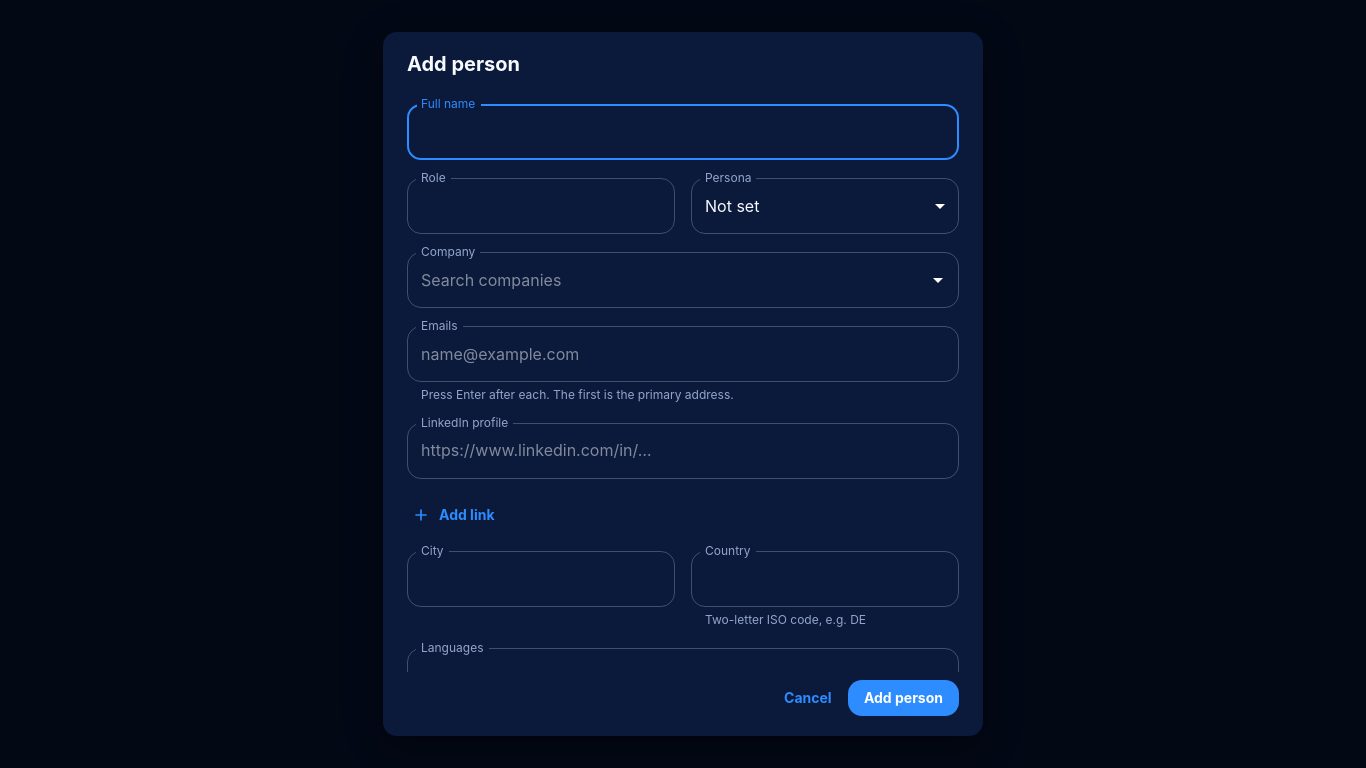
Test case: PersonFormDialog (adding) › never shows raw text for a lost connection
The width and height of the screenshot is (1366, 768).
Type "Marta Chen" into the field labelled "Full name" at (683, 132), box left=407, top=104, right=959, bottom=160
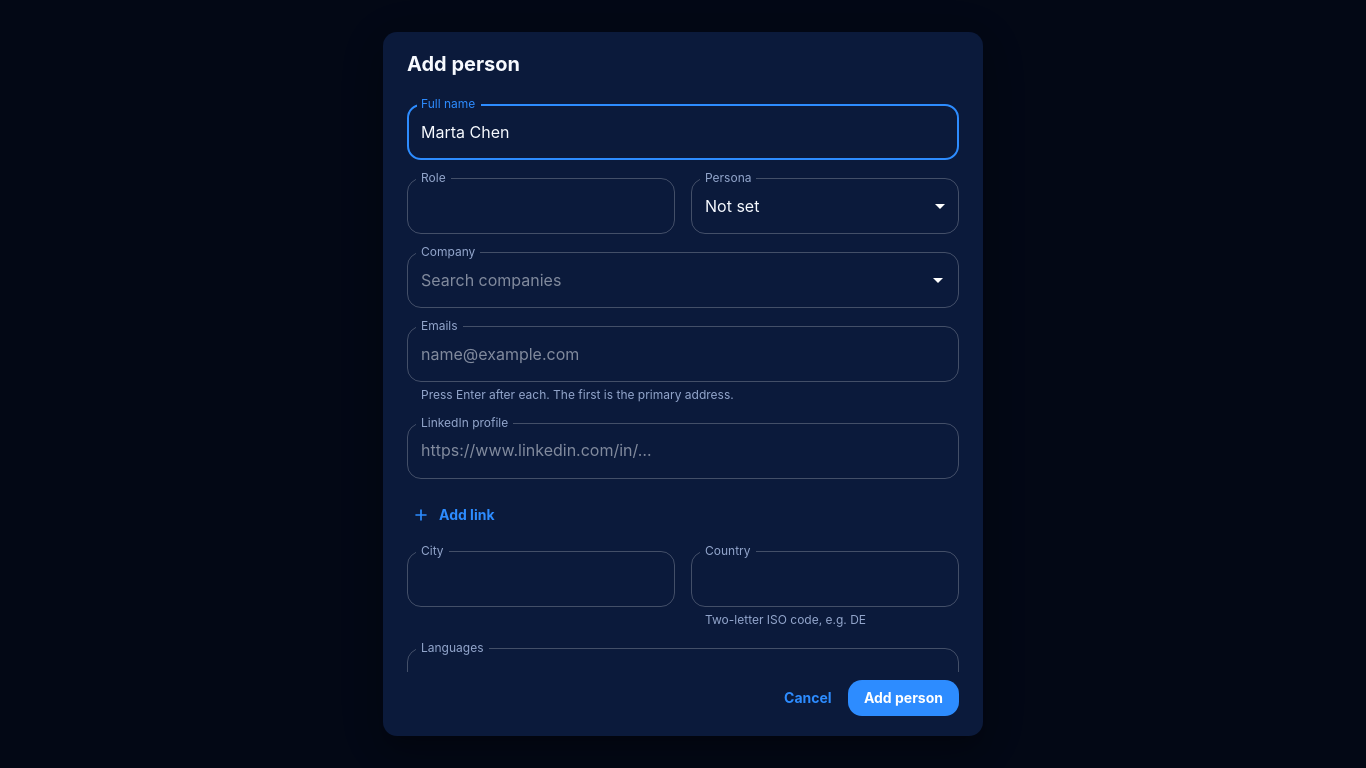
Type "marta@bluewave.io" into the dropdown labelled "Emails" at (683, 354), box left=416, top=335, right=950, bottom=373
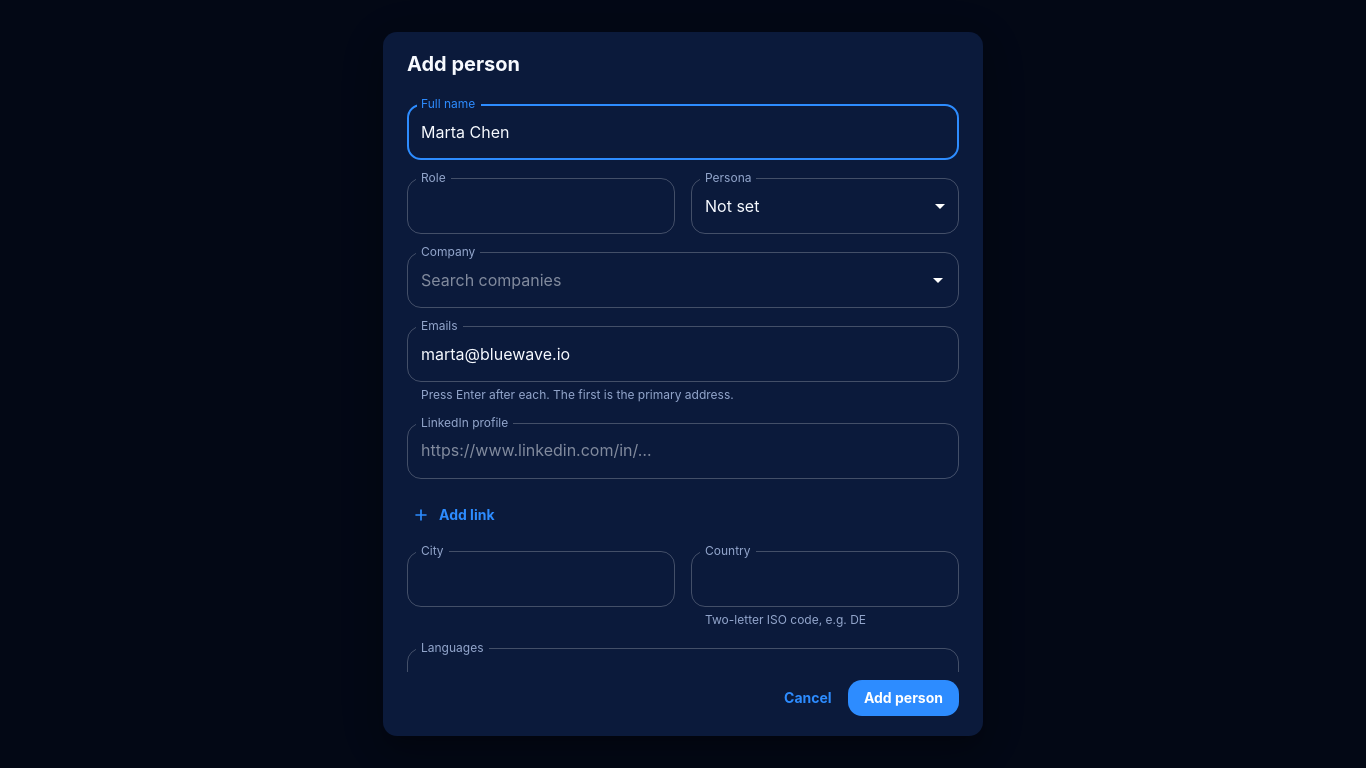
Press Enter in the dropdown labelled "Emails", box left=416, top=335, right=920, bottom=373
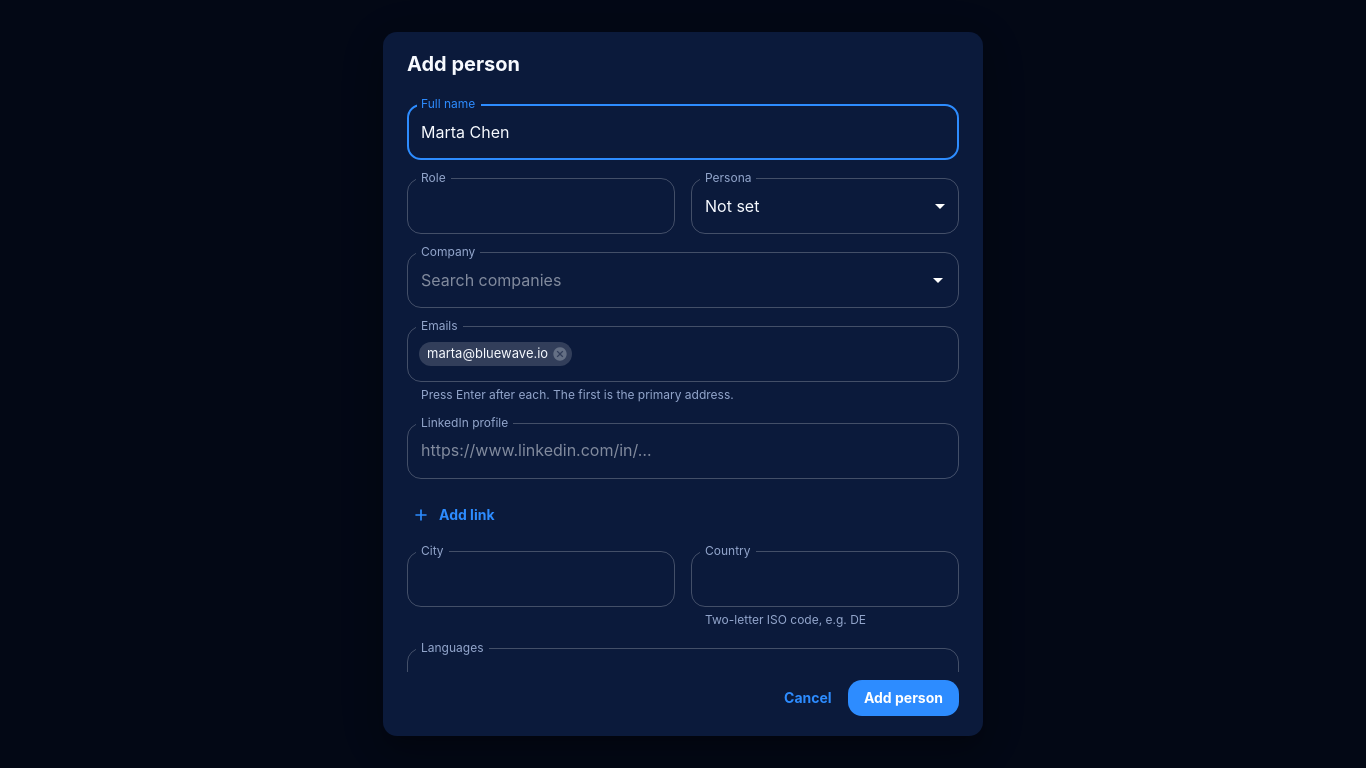
Click the button "Add person" at (903, 698), box left=848, top=680, right=959, bottom=716
(page scrolled)
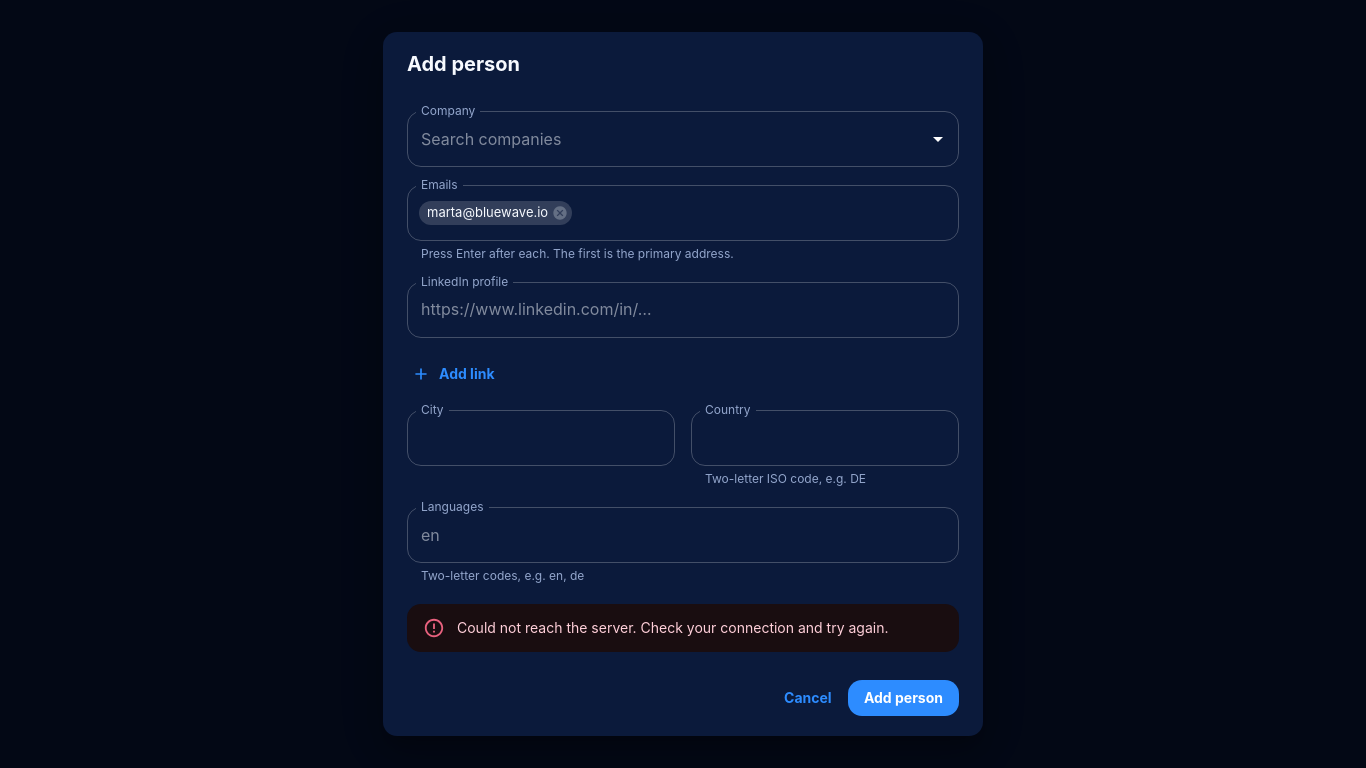
Expected: the text "Could not reach the server" is shown, left=457, top=619, right=888, bottom=636
